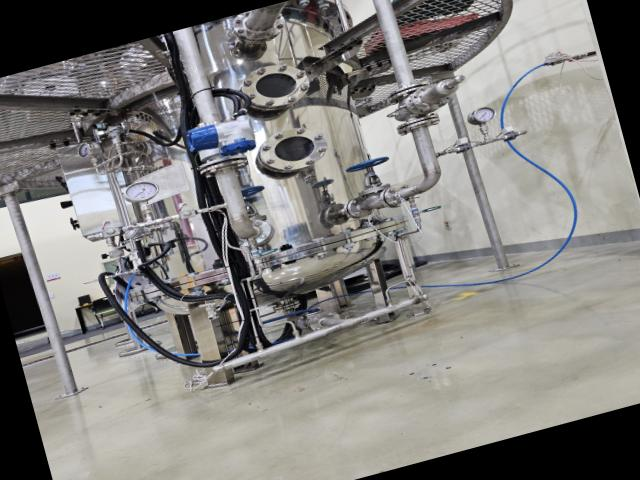Flange: (238, 54, 320, 118), (252, 118, 334, 181)
Flush Ring: (217, 209, 285, 257), (228, 2, 292, 48), (190, 147, 258, 180), (379, 78, 438, 106), (376, 178, 420, 212), (392, 110, 448, 136), (304, 304, 346, 334), (341, 192, 375, 222)
GasRegulator: (70, 112, 164, 190)
Nuts: (94, 222, 130, 243), (173, 203, 204, 223), (448, 138, 479, 158), (494, 125, 524, 145)
Piston Valve: (341, 144, 401, 200), (240, 180, 270, 218)
Pressure Gage: (118, 174, 168, 228), (462, 102, 505, 146)
